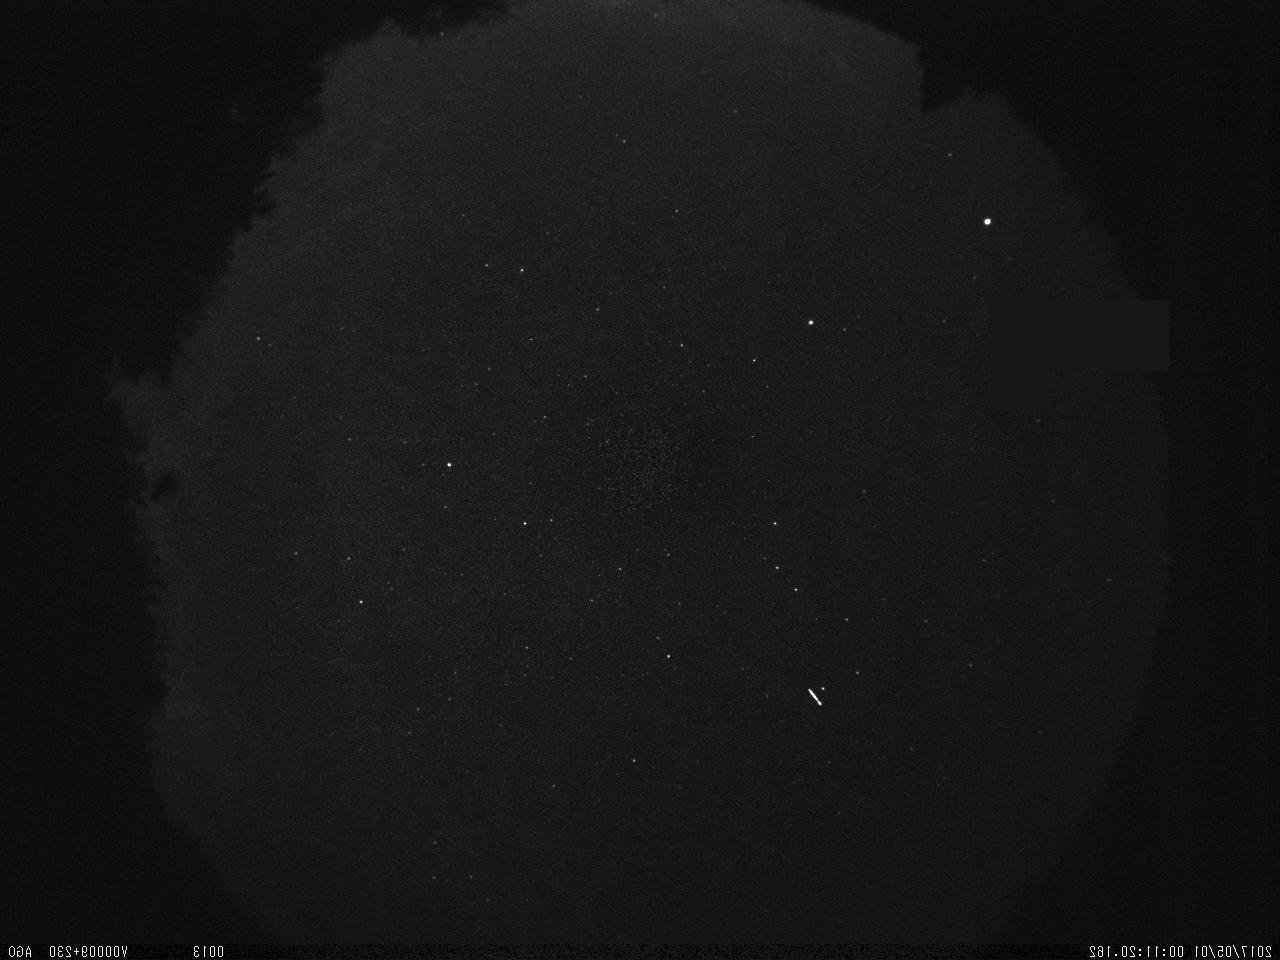meteor: (794, 679, 837, 716)
